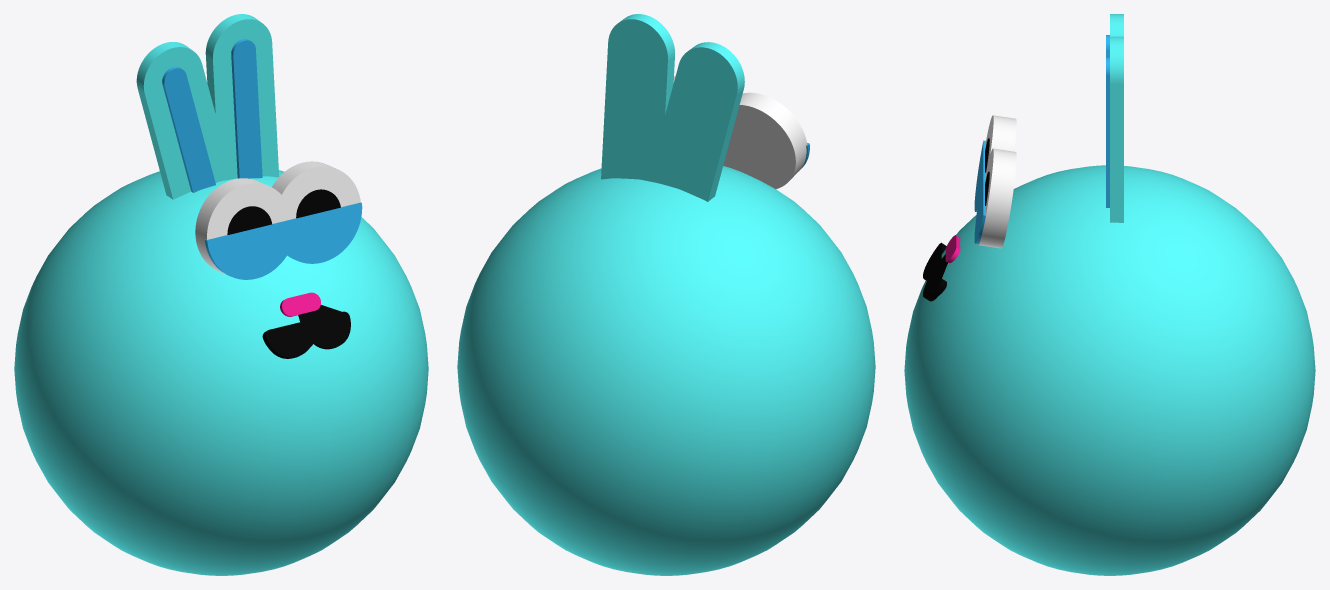
3 views of the same model, side by side, from view 1: azimuth 30°, elevation 25°; view 2: azimuth 150°, elevation 25°; view 3: azimuth 270°, elevation 25° (orthographic).
Visible parts, largest first — view 1: taingoai, taitrong, eye_around_1, eye, mui; view 2: taingoai, eye_around_1; view 3: taingoai, eye_around_1, taitrong, eye.
Boxes of the visible parts, x1,y1,x2,y2 form: taingoai: (14, 14, 428, 575); taitrong: (162, 39, 362, 279); eye_around_1: (195, 161, 360, 275); eye: (227, 189, 350, 358); mui: (280, 292, 320, 316); taingoai: (457, 14, 875, 575); eye_around_1: (673, 76, 807, 188); taingoai: (904, 14, 1315, 575); eye_around_1: (978, 115, 1016, 248); taitrong: (974, 35, 1109, 244); eye: (923, 138, 989, 301).
Bounding box in the file's own units: 176 × 249 × 176.
